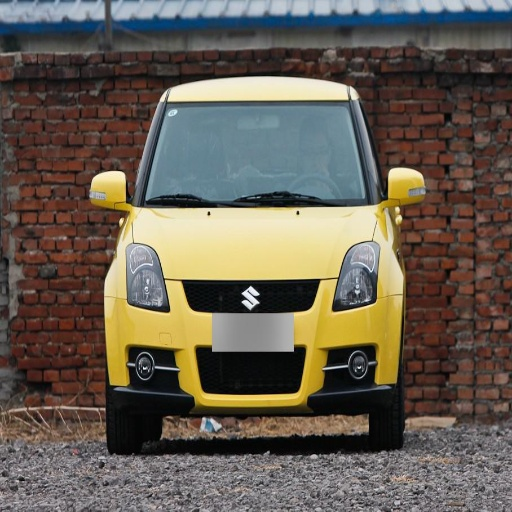front_bumper: (111, 278, 402, 413)
front_right_light: (125, 245, 169, 312)
hood: (132, 208, 378, 278)
left_mirror: (389, 168, 425, 206)
